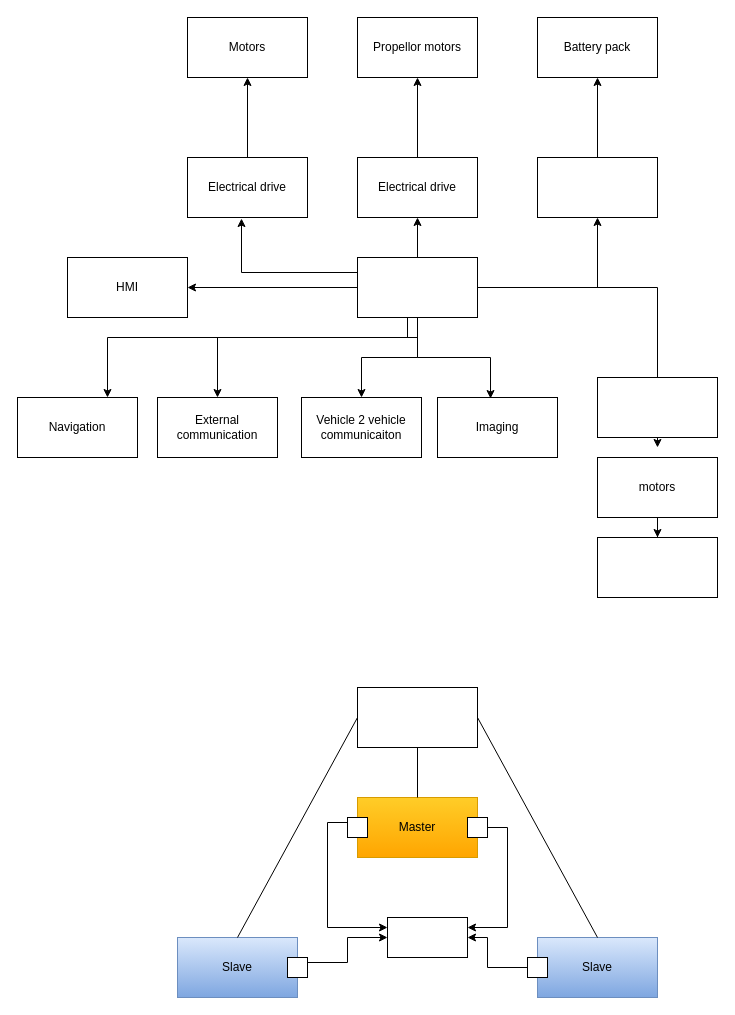
Image size: 735x1015. Some labels were removed from this diagram. Here are the shapes that lost their labels. From the top down, the centre of each, then its label:
(597,187): BMS
(417,287): master controller
(657,407): Drives
(657,567): Finss
(417,717): Obstacle avoidance
(427,937): Convoy coordination
